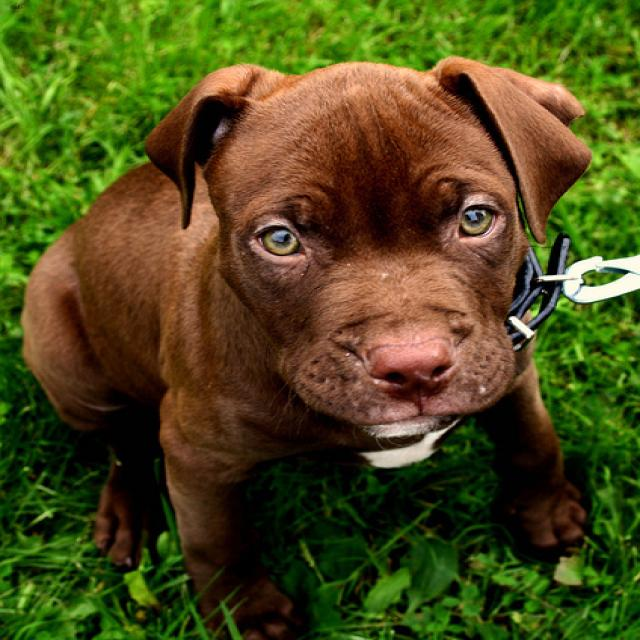dog-staffordshire_bull_terrier: (6, 41, 616, 637)
